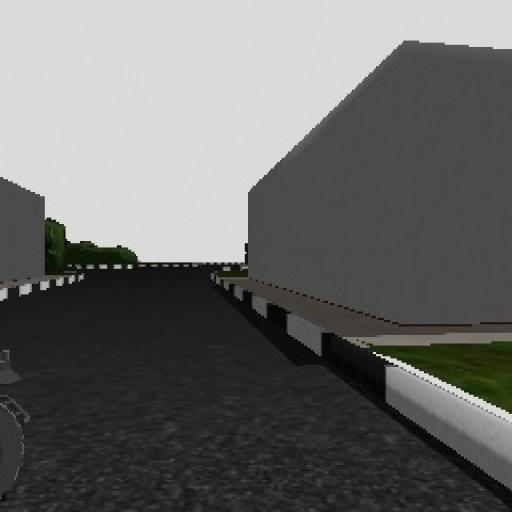huskya200: (0, 286, 34, 510)
